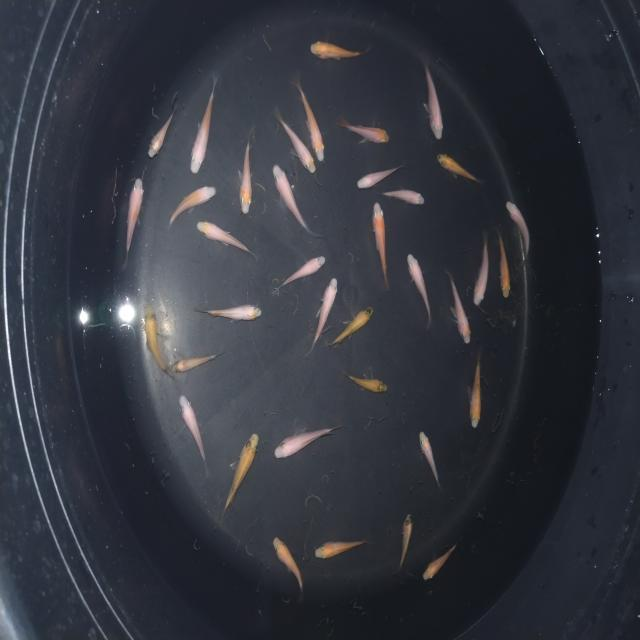nila: (217, 428, 264, 532), (187, 72, 227, 176), (271, 156, 317, 240), (292, 78, 332, 168), (303, 276, 341, 359), (272, 421, 348, 462), (119, 170, 148, 270), (276, 115, 322, 177), (322, 300, 376, 352), (177, 392, 210, 477), (142, 300, 176, 382), (194, 217, 257, 261), (163, 182, 220, 230), (271, 532, 306, 608), (272, 252, 331, 296), (444, 270, 478, 345), (420, 58, 450, 143), (404, 247, 434, 329), (335, 110, 395, 150), (190, 297, 265, 328), (419, 535, 461, 590), (432, 150, 490, 189), (368, 198, 392, 291), (237, 124, 260, 218), (168, 346, 230, 380), (504, 196, 534, 266), (490, 224, 516, 303), (146, 103, 180, 162), (414, 427, 446, 488), (392, 507, 418, 581), (467, 348, 489, 434), (309, 37, 372, 66), (314, 532, 373, 562), (354, 160, 406, 194), (472, 232, 490, 314), (340, 368, 391, 396), (382, 184, 431, 209)
